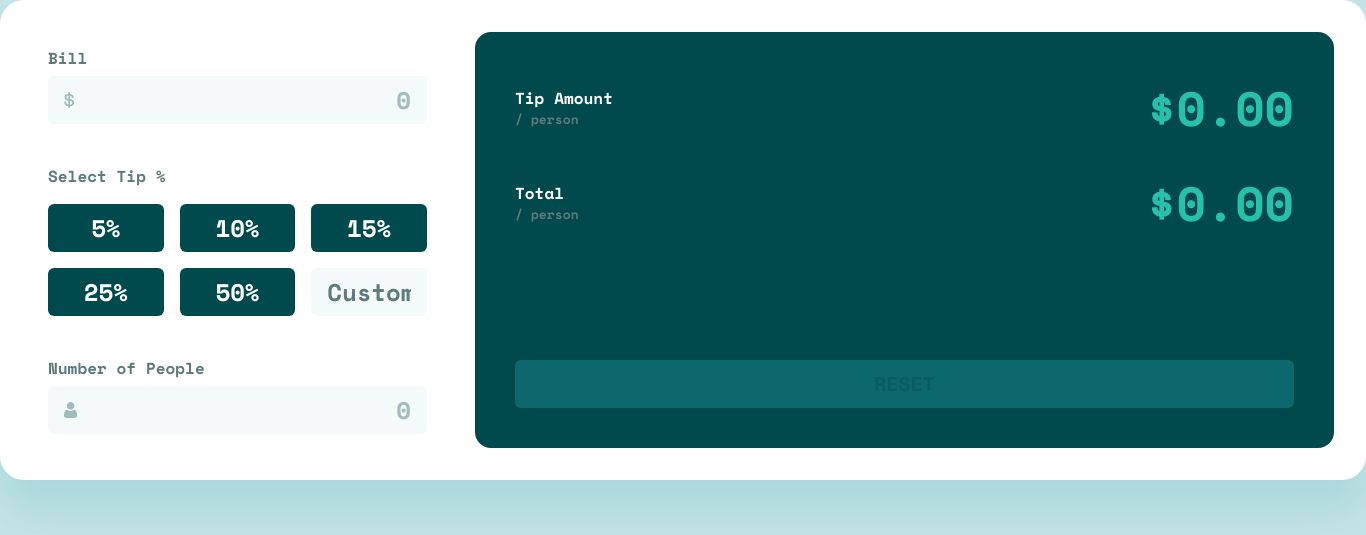
Test: Calculator form component › should reset entire form when reset is clicked
This screenshot has width=1366, height=535.
Type "100" into the field labelled "Bill".
click(238, 100); type("100")  # box [48,76,427,124]
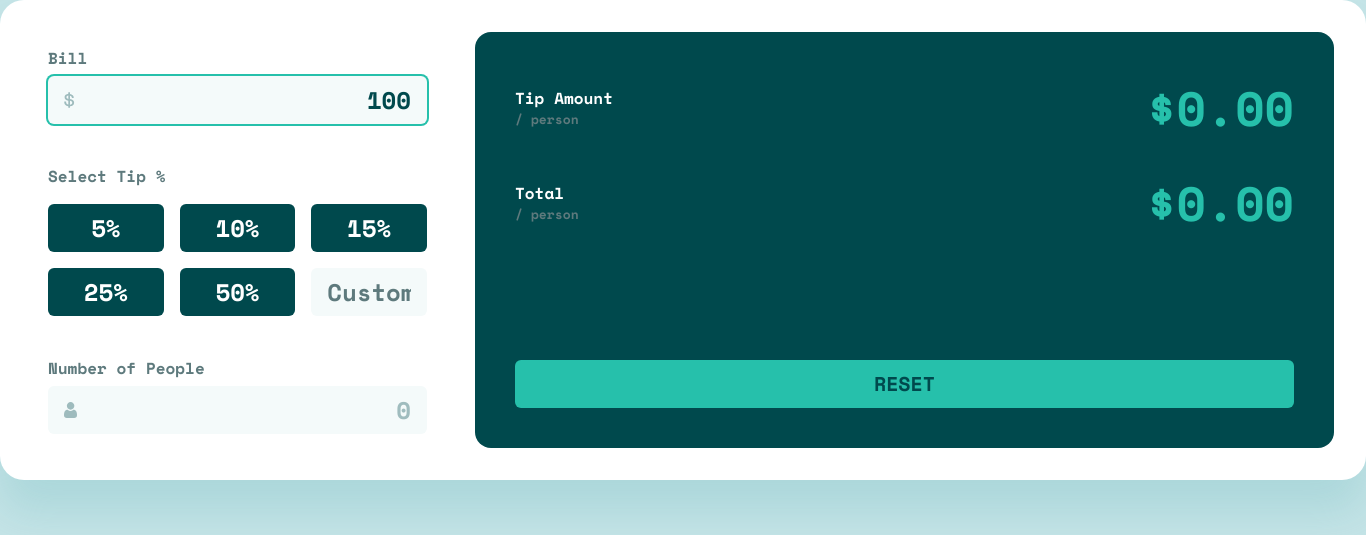
Type "2" into the field labelled "Number of People".
click(238, 410); type("2")  # box [48,386,427,434]
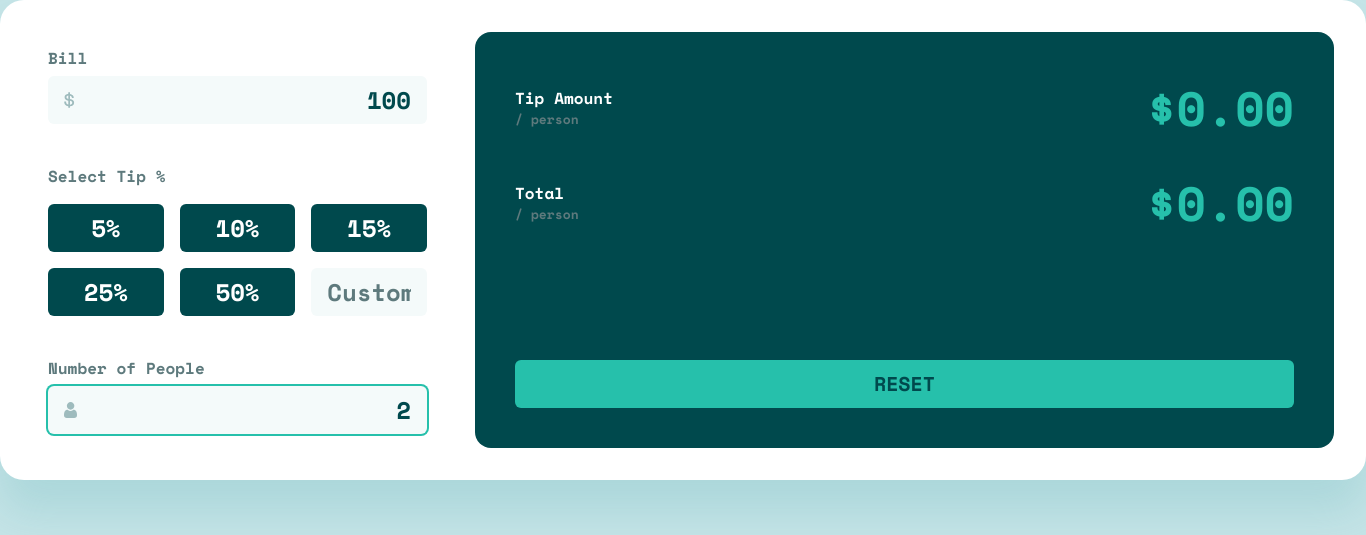
Click the button "10%".
click(238, 228)  # box [180,204,295,252]
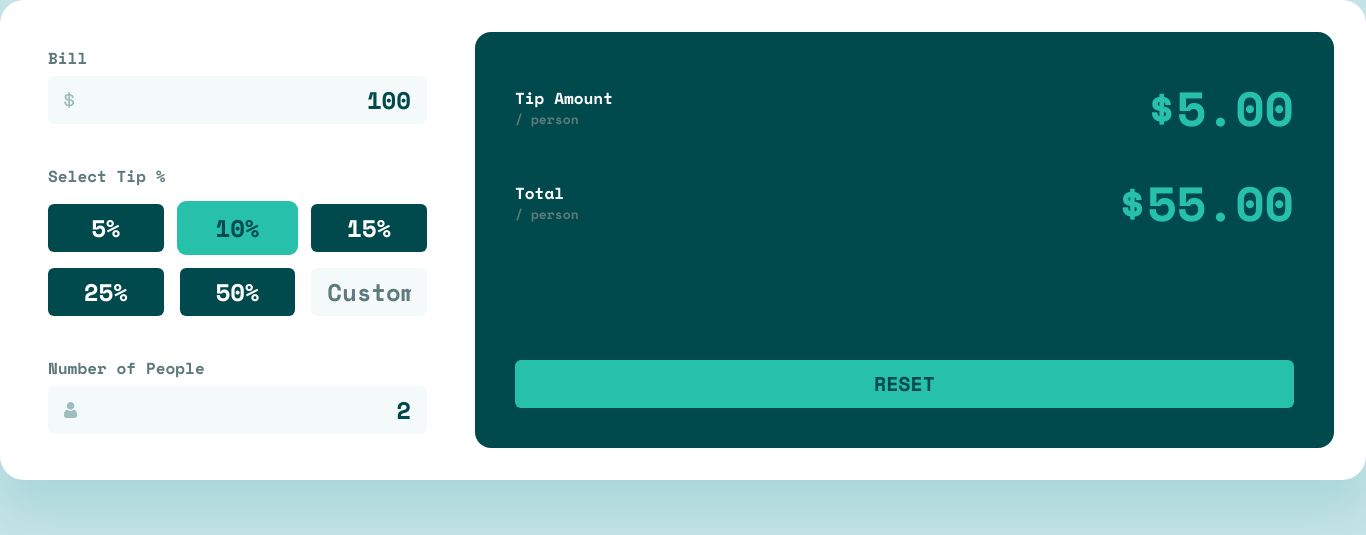
Click the button "Reset".
click(904, 384)  # box [515,360,1294,408]
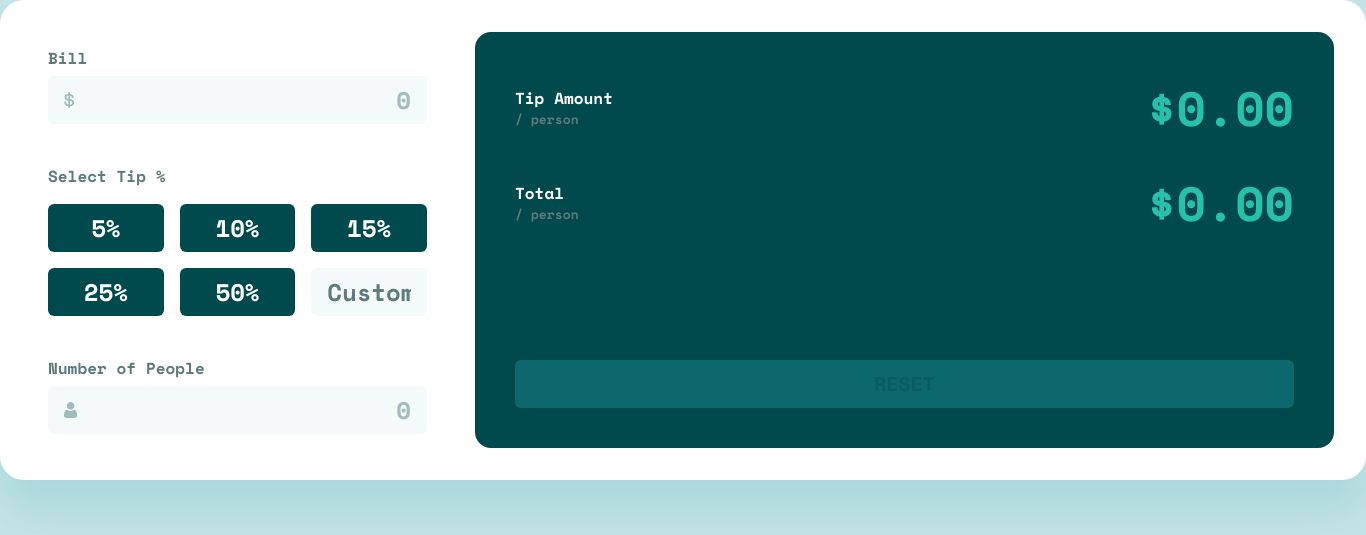
Check: the field labelled "Bill" is empty, box [48,76,427,124]
Check: the field labelled "Number of People" is empty, box [48,386,427,434]
